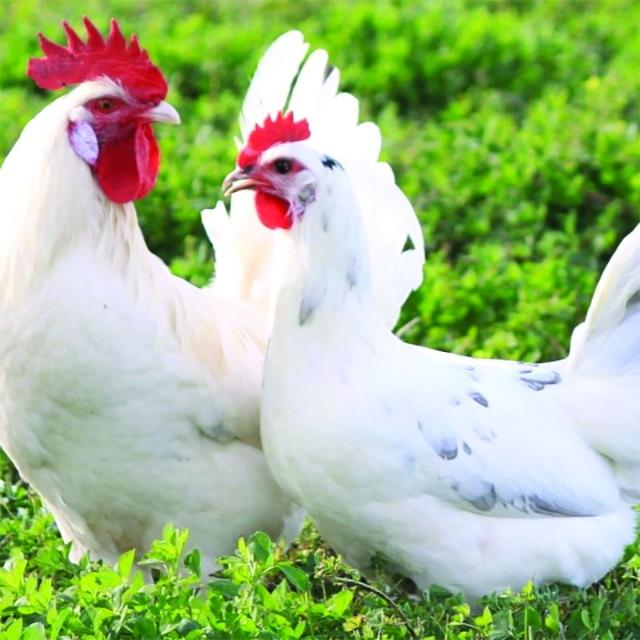Chicken: (0, 15, 428, 574), (222, 108, 640, 602)
